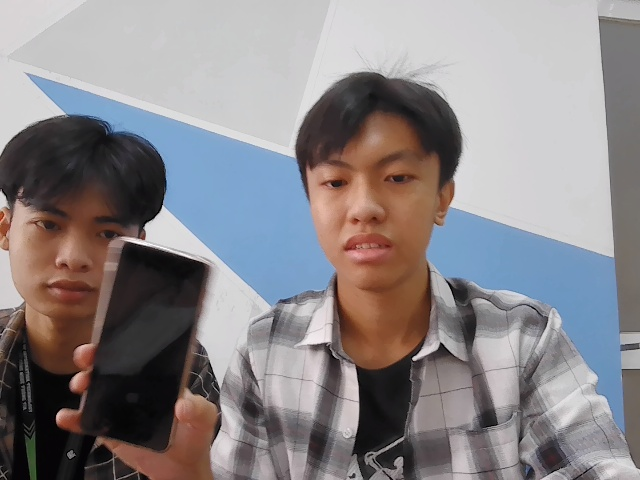human: (289, 71, 461, 287), (8, 115, 171, 316)
phone: (81, 234, 224, 455)
